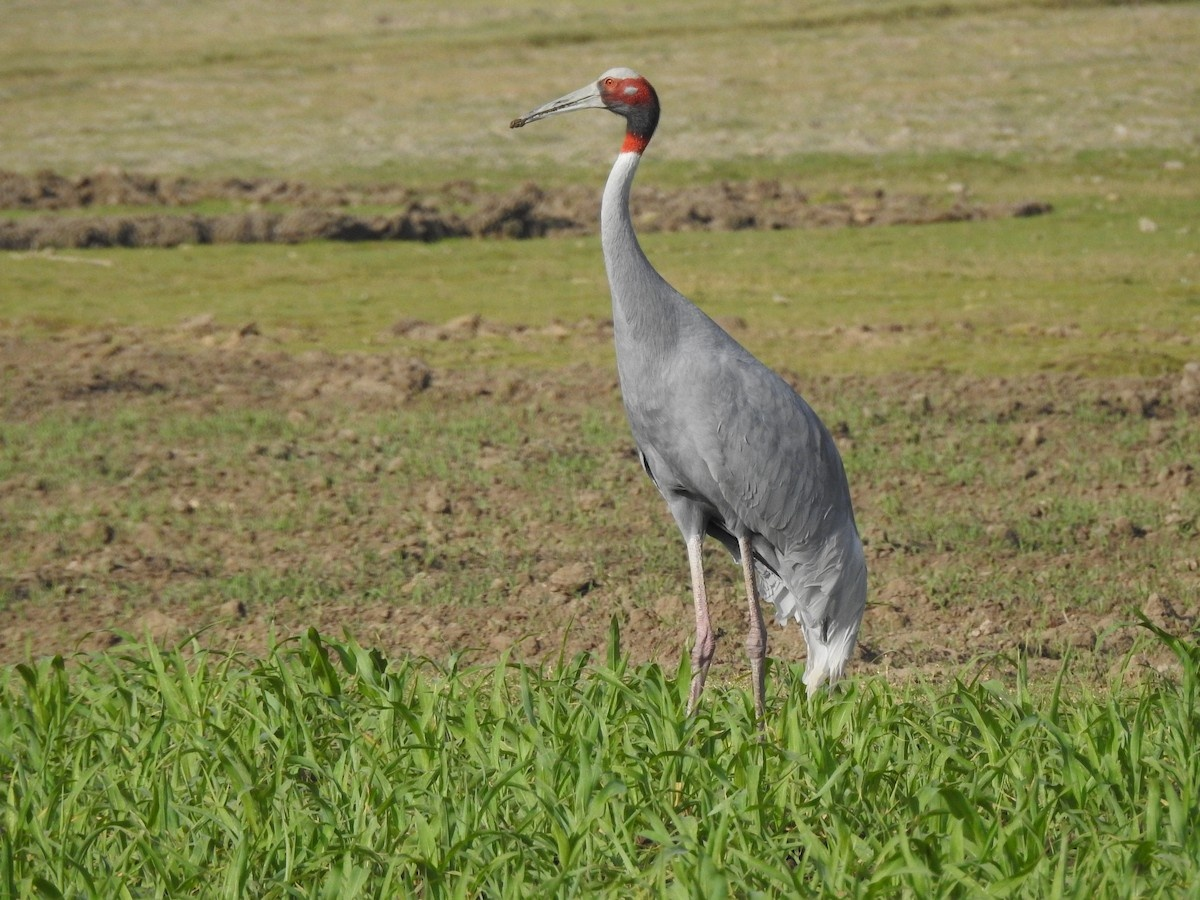crane: (508, 59, 896, 705)
